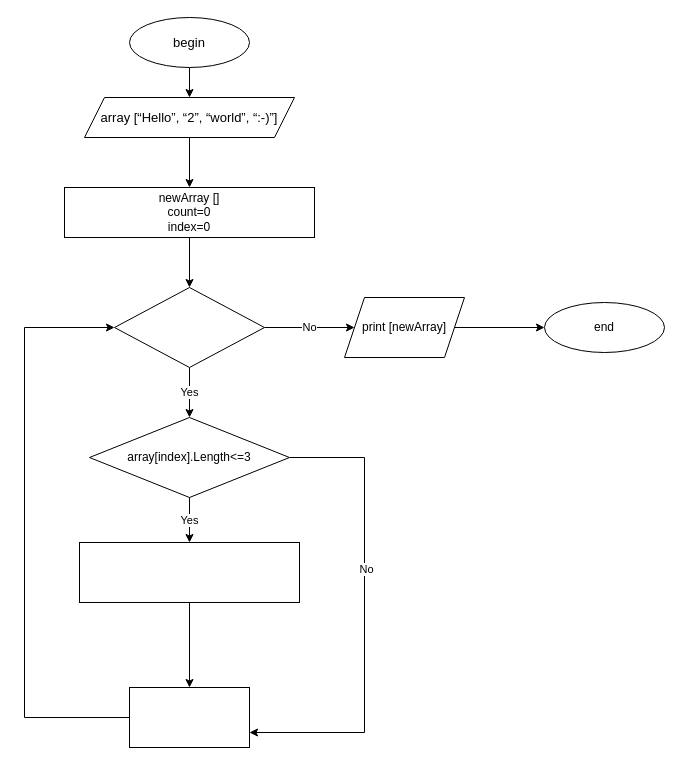
This 682x765 diagram has some shape labels left out. Each missing label, with the centre of its shape:
"index < array.Length" belongs at point (189, 327).
"index=index+1" belongs at point (189, 717).
"newArray[count] = array [index] count = count+1" belongs at point (189, 572).
